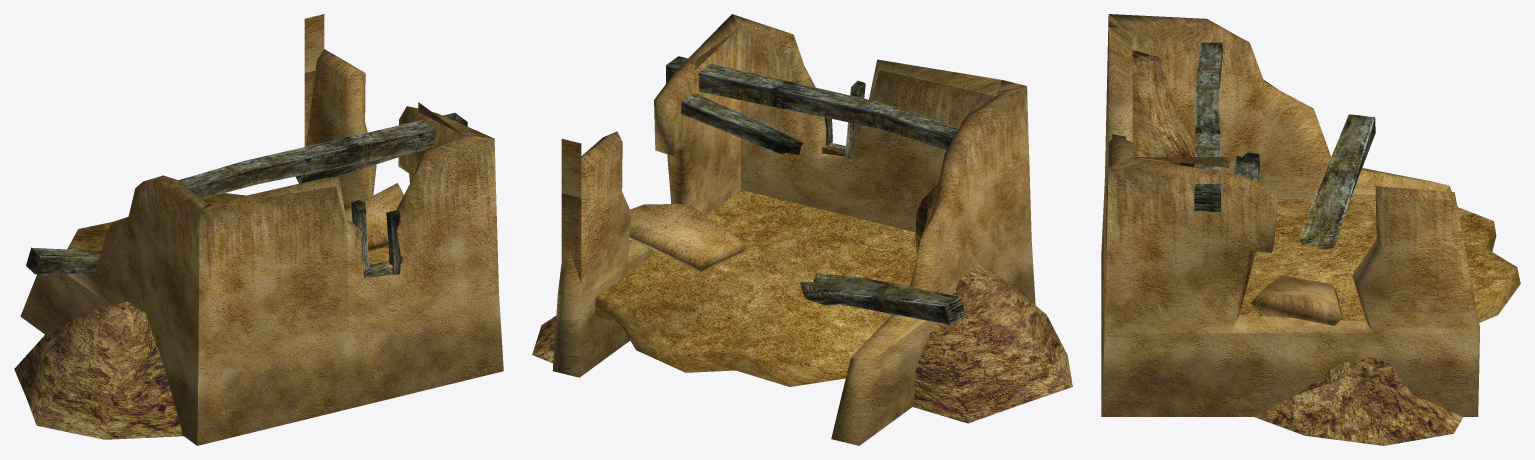
3 renders of one model, left to right at view 1: azimuth 30°, elevation 25°; view 2: azimuth 150°, elevation 25°; view 3: azimuth 270°, elevation 25°, orthographic. The views are drawn at different scales.
Visible parts, largest first — view 1: hr_rn8-col; view 2: hr_rn8-col; view 3: hr_rn8-col.
Part boxes in pixels (x1=…): hr_rn8-col: x1=14, y1=14, x2=503, y2=445; hr_rn8-col: x1=532, y1=14, x2=1072, y2=445; hr_rn8-col: x1=1101, y1=14, x2=1520, y2=445.
Size of the model in its own units: 9.37 by 4.52 by 6.94.
9 materials, 9 textured.
